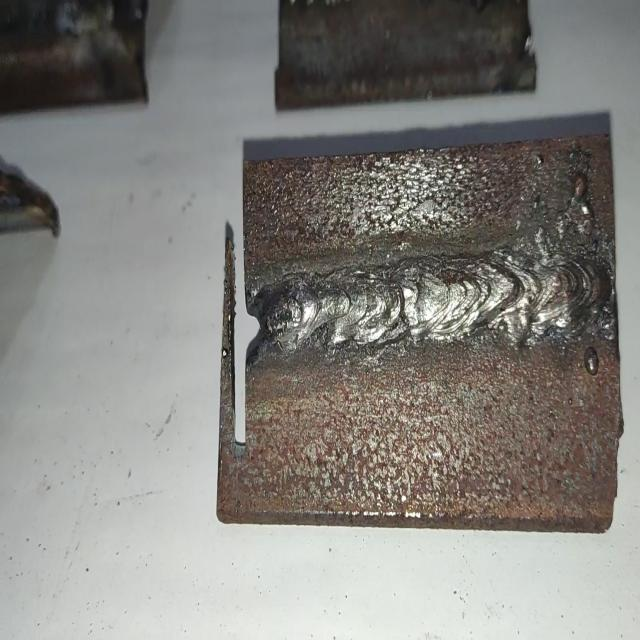Good Weld: (265, 245, 610, 350)
